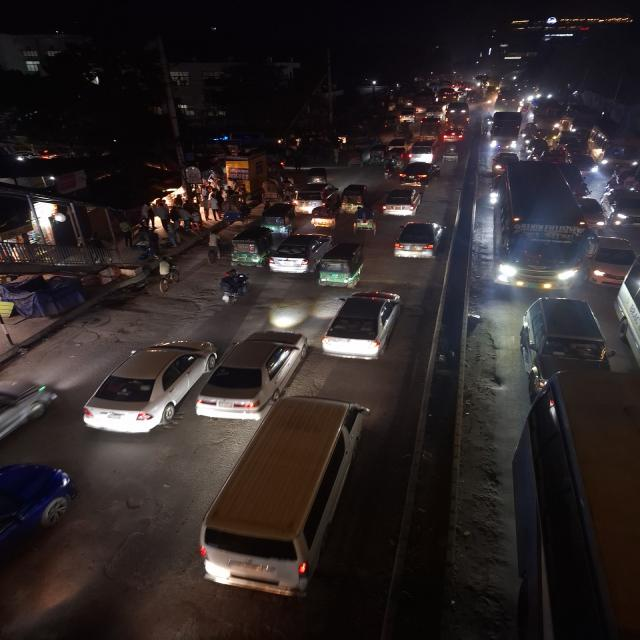bicycle: (154, 255, 180, 293), (202, 231, 224, 265)
bus: (513, 370, 640, 639), (491, 160, 588, 298), (514, 294, 614, 398), (587, 120, 639, 164)
car: (197, 398, 376, 602), (0, 456, 79, 638), (77, 337, 216, 440), (192, 329, 310, 423), (320, 289, 408, 365), (0, 376, 59, 456), (612, 249, 640, 366), (265, 231, 333, 276), (587, 234, 639, 284), (391, 220, 445, 262), (285, 181, 338, 212), (381, 184, 426, 218), (606, 186, 639, 228), (398, 161, 441, 185), (580, 196, 608, 232), (570, 149, 600, 175), (408, 139, 440, 163), (442, 126, 466, 142)
cng: (316, 240, 367, 290), (229, 226, 272, 268), (261, 203, 295, 233), (340, 183, 369, 213), (309, 205, 340, 231), (490, 152, 516, 176), (304, 166, 332, 184)
motorcycle: (212, 268, 253, 306), (264, 296, 307, 331), (485, 174, 504, 211), (381, 159, 398, 179)
rickshaw: (351, 206, 377, 234), (310, 205, 340, 229), (259, 178, 283, 201), (304, 166, 331, 185), (368, 144, 388, 166), (442, 145, 459, 165)
truck: (491, 111, 522, 151), (420, 118, 439, 140)
